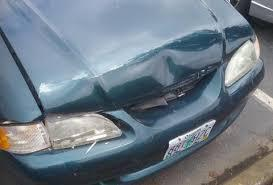bonnet-dent: (14, 0, 244, 113)
